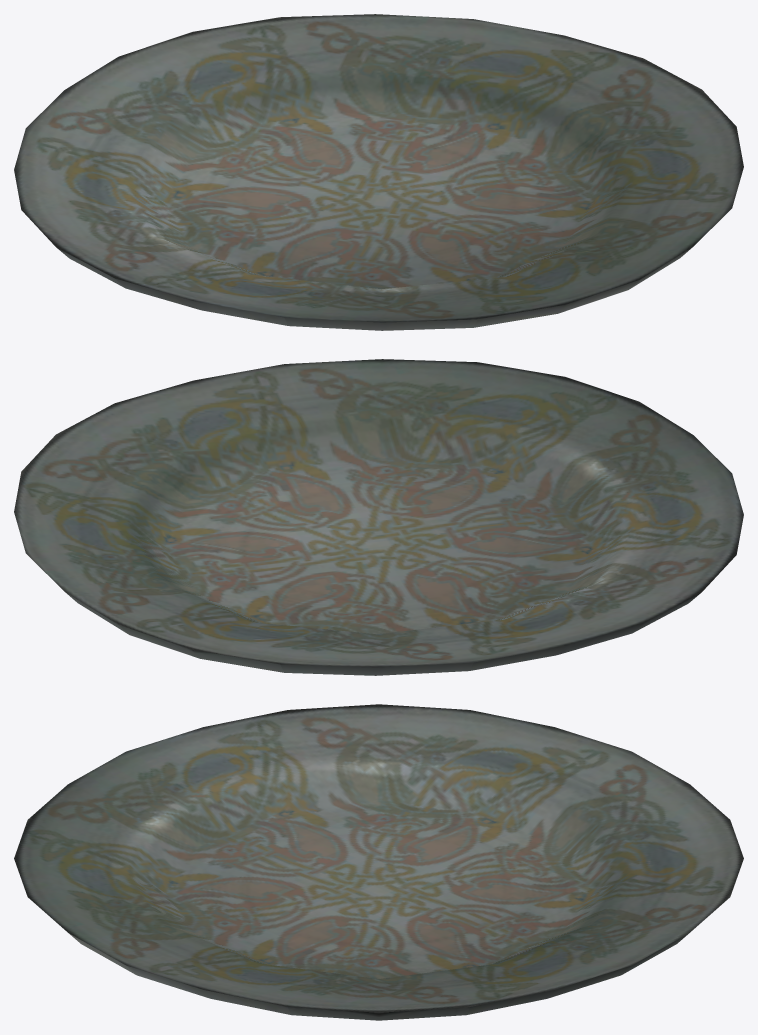
Rendered from ma_restaurant_plate_02_lod0.glb.
The picture shows the model from 3 angles, top to bottom: view 1: azimuth 30°, elevation 25°; view 2: azimuth 150°, elevation 25°; view 3: azimuth 270°, elevation 25°; orthographic projection. The views are drawn at different scales.
Visible parts, largest first — view 1: surf0; view 2: surf0; view 3: surf0.
Part boxes in pixels (x1=…): surf0: x1=14, y1=14, x2=743, y2=330; surf0: x1=14, y1=359, x2=743, y2=675; surf0: x1=14, y1=704, x2=743, y2=1020.
Size of the model in its own units: 13.34 by 1.01 by 13.34.
